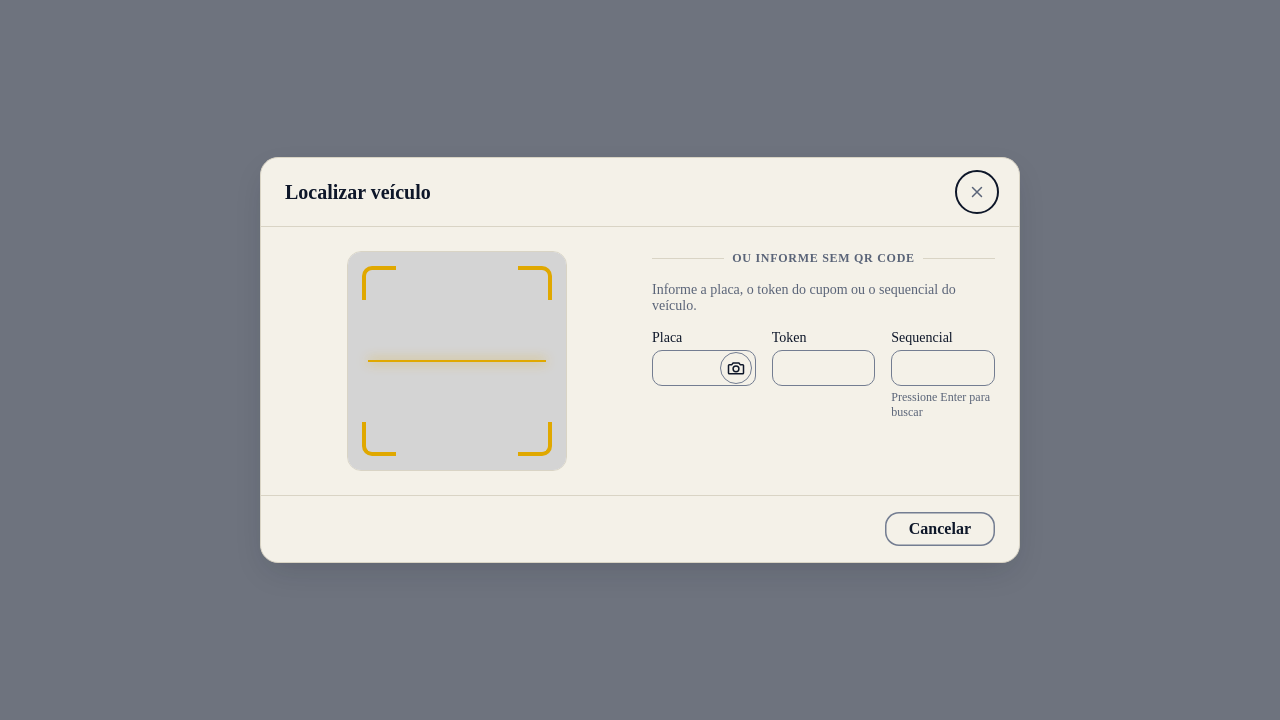
Test: SaidaVeiculoModal: fase de pesquisa › placa inválida mostra a orientação ao confirmar com Enter
The image size is (1280, 720).
Type "ABC12" into the field labelled "Placa". click: (704, 368)
box: [652,350,756,386]
Then press Enter
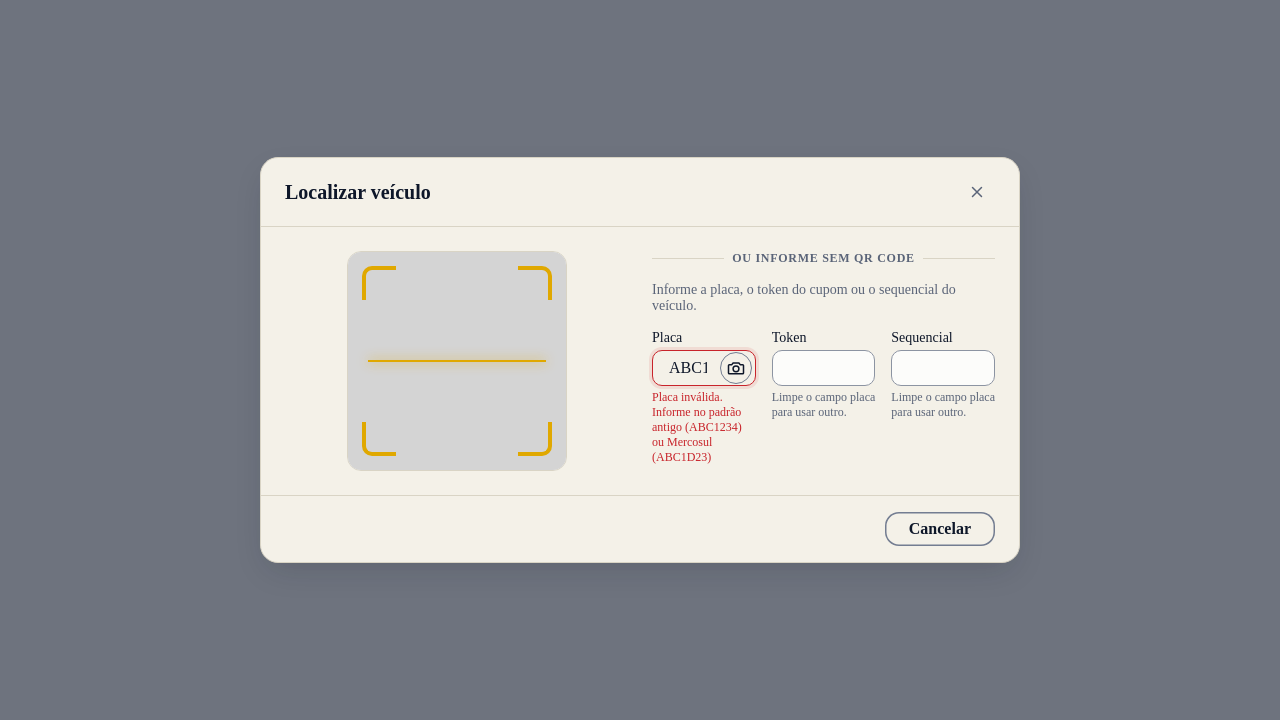
Check: the text "Placa inválida" is shown, box [652,390,742,464]
